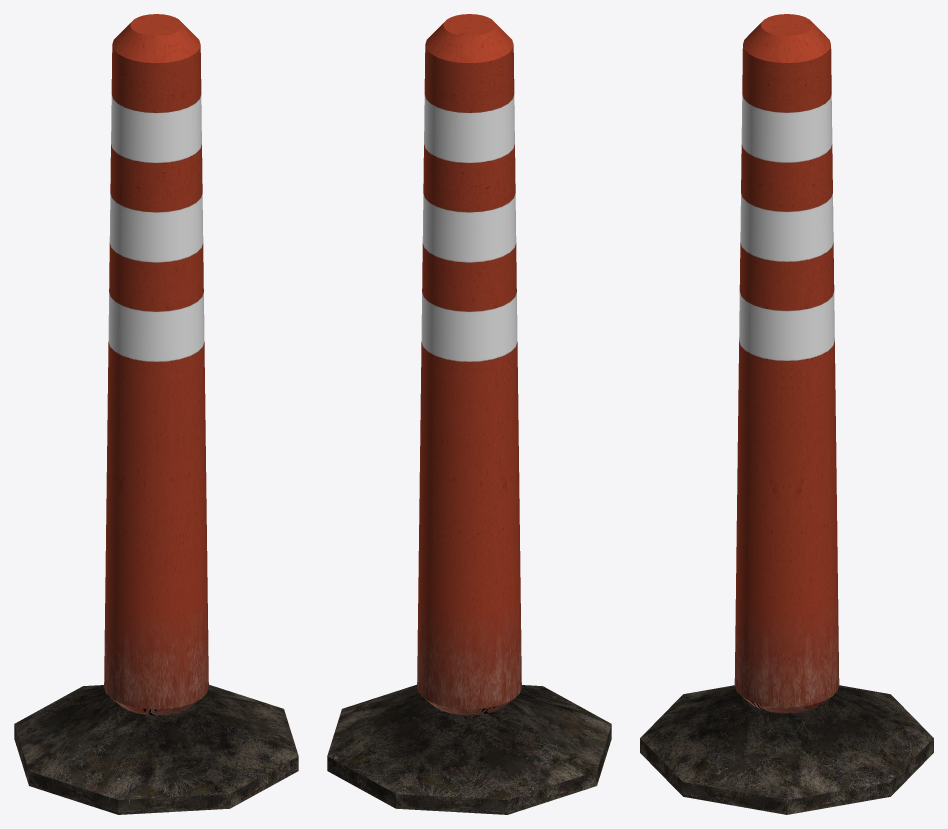
File: Traffic cone 2.fbx
The picture shows the model from 3 angles, left to right: view 1: azimuth 30°, elevation 25°; view 2: azimuth 150°, elevation 25°; view 3: azimuth 270°, elevation 25°; orthographic projection.
Parts seen in each view (by area): view 1: Traffic cone 2; view 2: Traffic cone 2; view 3: Traffic cone 2.
Boxes of the visible parts, x1=… form: Traffic cone 2: x1=14, y1=14, x2=298, y2=814; Traffic cone 2: x1=327, y1=14, x2=611, y2=814; Traffic cone 2: x1=640, y1=14, x2=933, y2=814.
Size of the model in its own units: 27.42 by 74.97 by 27.42.
